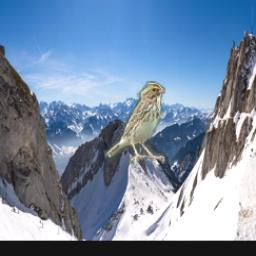Sparrow: (104, 82, 165, 165)
